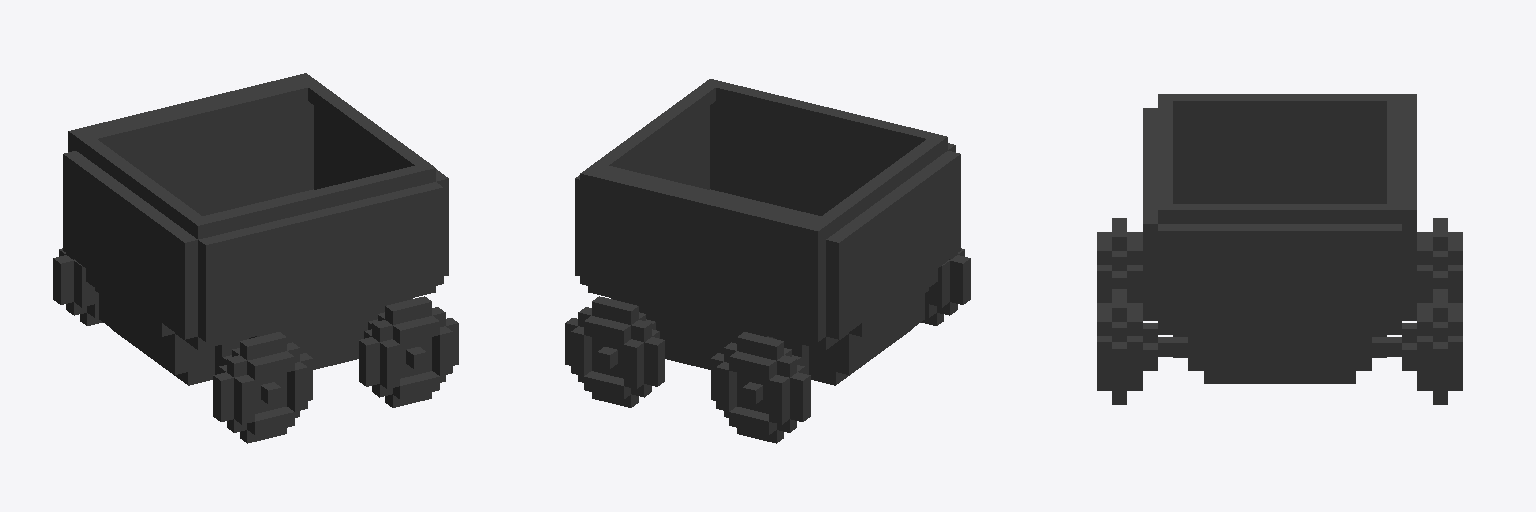
3 views of the same model, side by side, from view 1: azimuth 30°, elevation 25°; view 2: azimuth 150°, elevation 25°; view 3: azimuth 270°, elevation 25° (orthographic).
Parts seen in each view (by area): view 1: object 1; view 2: object 1; view 3: object 1.
Part boxes in pixels (left/top/right/bottom): object 1: left=53, top=73, right=458, bottom=443; object 1: left=565, top=79, right=970, bottom=443; object 1: left=1097, top=94, right=1462, bottom=404.
Bounding box in the file's own units: 2 × 1.5 × 2.4.
Materials: 1 (1 with a texture image).